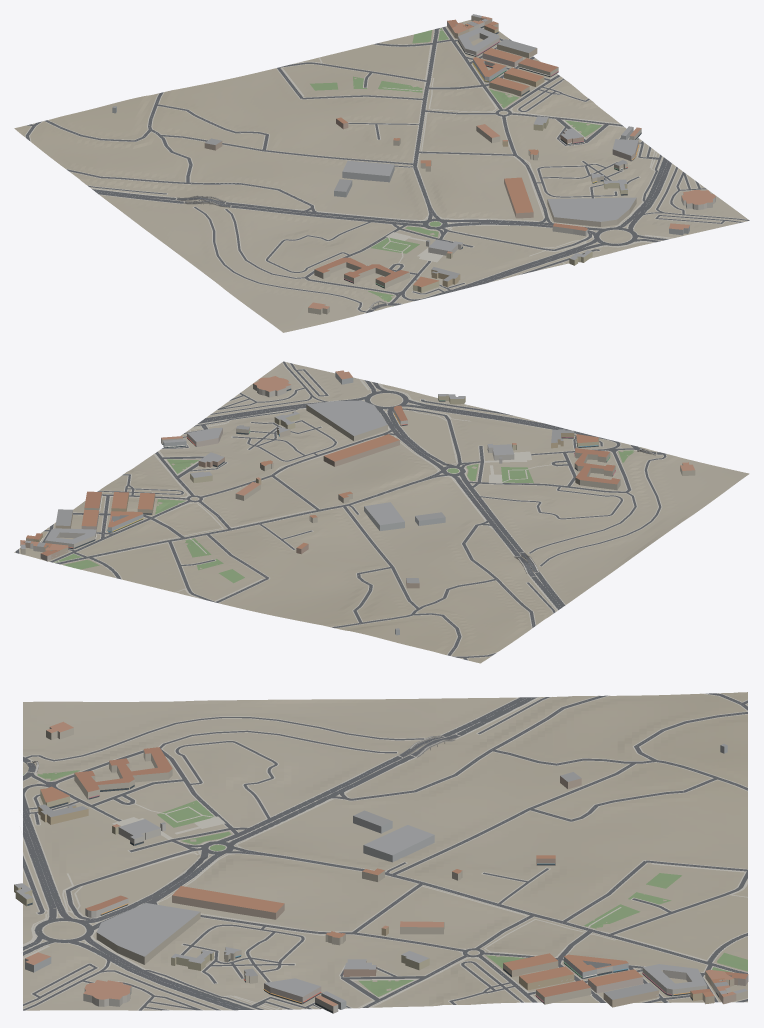
3 views of the same model, one above another, from view 1: azimuth 30°, elevation 25°; view 2: azimuth 150°, elevation 25°; view 3: azimuth 270°, elevation 25° (orthographic). The views are drawn at different scales.
Visible parts, largest first — view 1: Ground, Road, Sidewalk, Roofs, Walls, Park; view 2: Ground, Road, Sidewalk, Roofs, Walls, Park; view 3: Ground, Road, Sidewalk, Roofs, Walls, Park, Detail.
Boxes of the visible parts, <box> form: Ground: <box>14,20,747,332</box>; Road: <box>25,27,749,313</box>; Sidewalk: <box>24,26,748,313</box>; Roofs: <box>113,14,715,309</box>; Walls: <box>112,15,715,314</box>; Park: <box>310,28,601,306</box>; Ground: <box>14,362,749,663</box>; Road: <box>15,361,666,660</box>; Sidewalk: <box>15,362,668,660</box>; Roofs: <box>20,370,694,629</box>; Walls: <box>20,372,695,635</box>; Park: <box>54,447,640,583</box>; Ground: <box>23,692,747,1010</box>; Road: <box>23,693,747,1010</box>; Sidewalk: <box>23,693,747,1010</box>; Roofs: <box>14,721,748,1006</box>; Walls: <box>14,727,748,1013</box>; Park: <box>23,770,747,996</box>; Detail: <box>27,785,718,1013</box>.
Size of the model in its own units: 1019 by 29.9 by 1015.
